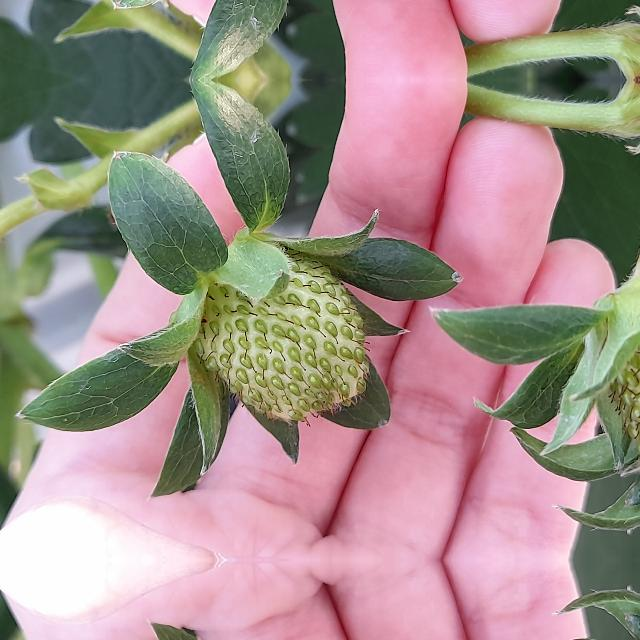Health_25: (186, 240, 372, 426)
